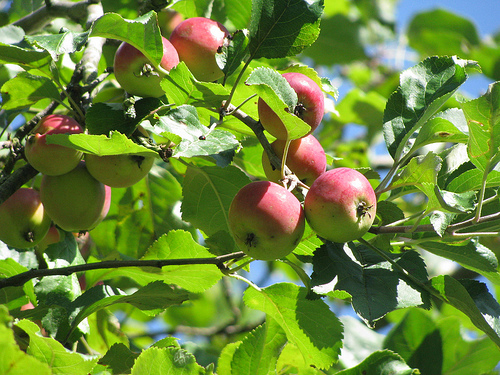apple: (227, 176, 307, 263), (304, 164, 379, 243), (165, 16, 235, 80)
